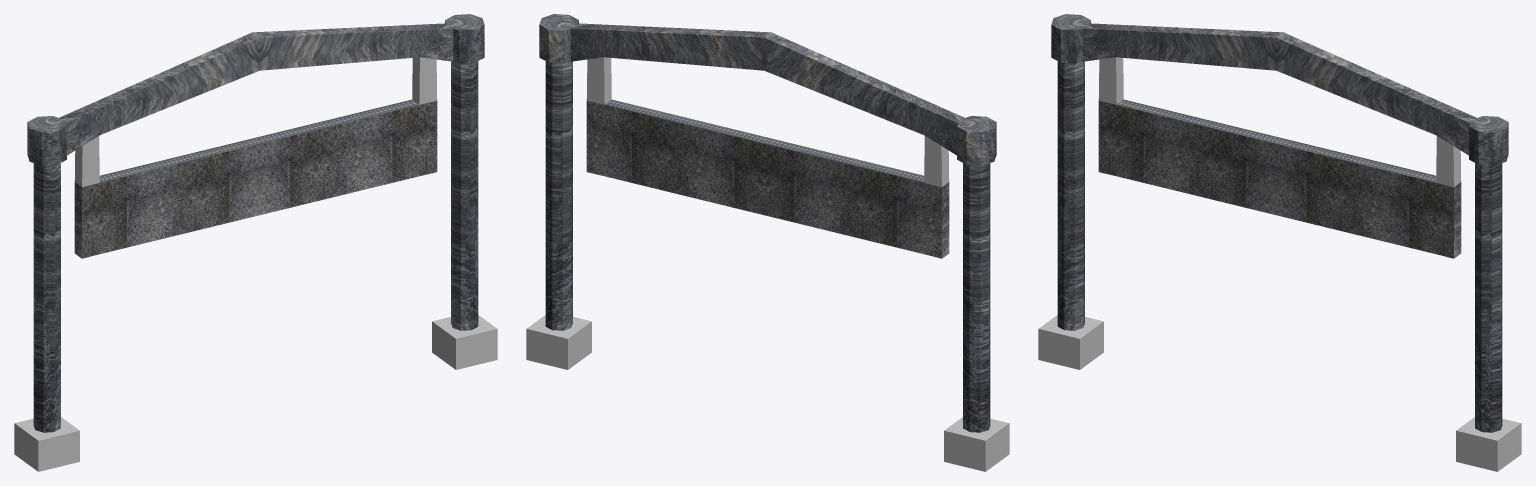
Rendered from Gate.fbx.
3 renders of one model, left to right at view 1: azimuth 30°, elevation 25°; view 2: azimuth 150°, elevation 25°; view 3: azimuth 330°, elevation 25°, orthographic.
Parts seen in each view (by area): view 1: Cube.001; view 2: Cube.001; view 3: Cube.001.
Boxes of the visible parts, x1,y1,x2,y2 form: Cube.001: (14,14,497,471); Cube.001: (526,14,1009,471); Cube.001: (1038,14,1521,471).
Bounding box in the file's own units: 2213 × 1714 × 200.
